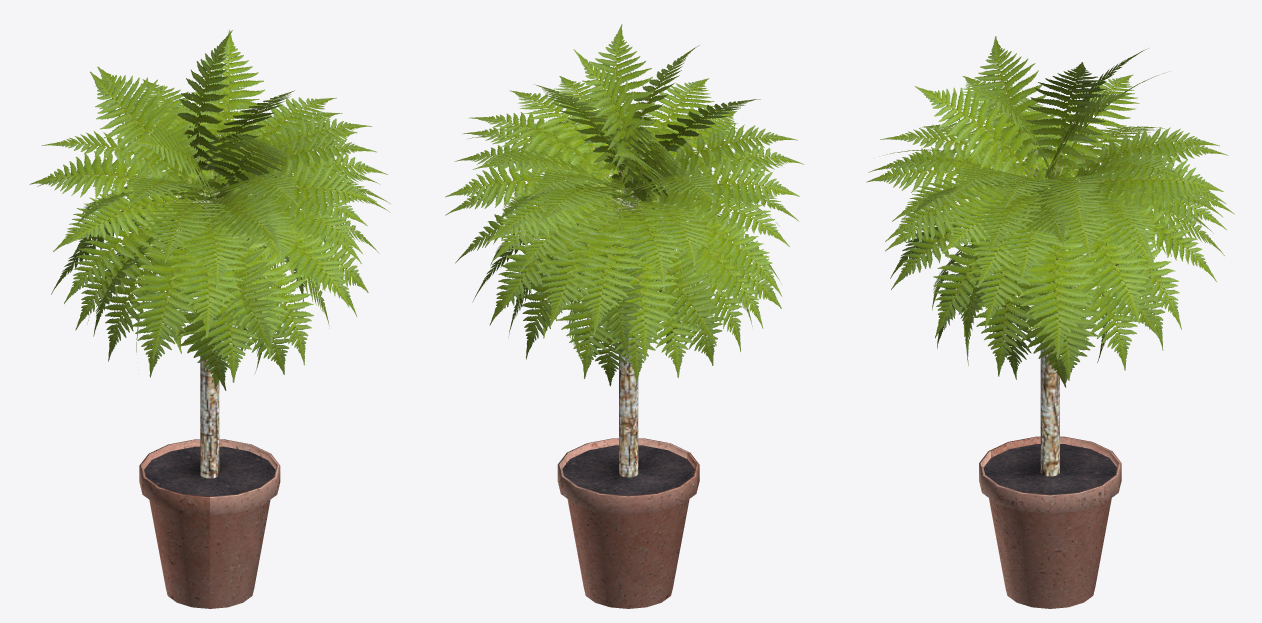
The model's file is plant.fbx.
3 views of the same model, side by side, from view 1: azimuth 30°, elevation 25°; view 2: azimuth 150°, elevation 25°; view 3: azimuth 270°, elevation 25° (orthographic).
Visible parts, largest first — view 1: polySurface1, PlantPotMeshUV:headusOBJexport; view 2: polySurface1, PlantPotMeshUV:headusOBJexport; view 3: polySurface1, PlantPotMeshUV:headusOBJexport.
Boxes of the visible parts, box(x1,y1,x2,y2) form: polySurface1: box(29, 29, 390, 390); PlantPotMeshUV:headusOBJexport: box(139, 205, 280, 608); polySurface1: box(445, 24, 803, 386); PlantPotMeshUV:headusOBJexport: box(557, 202, 699, 608); polySurface1: box(866, 36, 1234, 387); PlantPotMeshUV:headusOBJexport: box(979, 245, 1121, 608).
Size of the model in its own units: 3.58 by 5.59 by 3.58.
